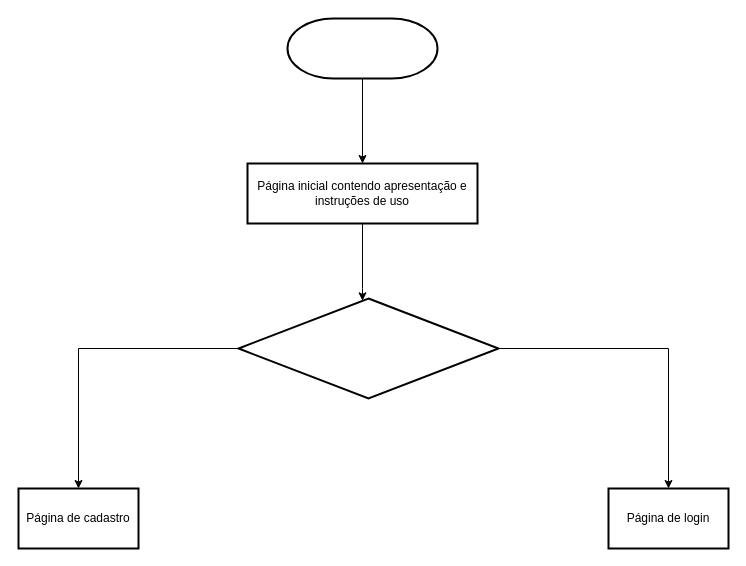
The diagram is 746 pixels wide and 566 high, and some of its shapes have lost their labels. The centre of each missing label's shape, as x and y in pixels:
"Usuário acessa o app" belongs at pixel 362 48.
"Usuário decide se cria conta ou faz login" belongs at pixel 368 348.
